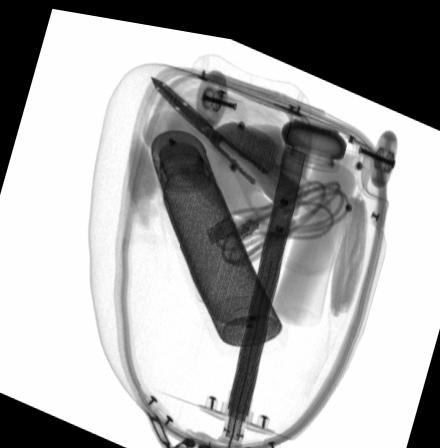Scissors: (149, 70, 333, 228)
